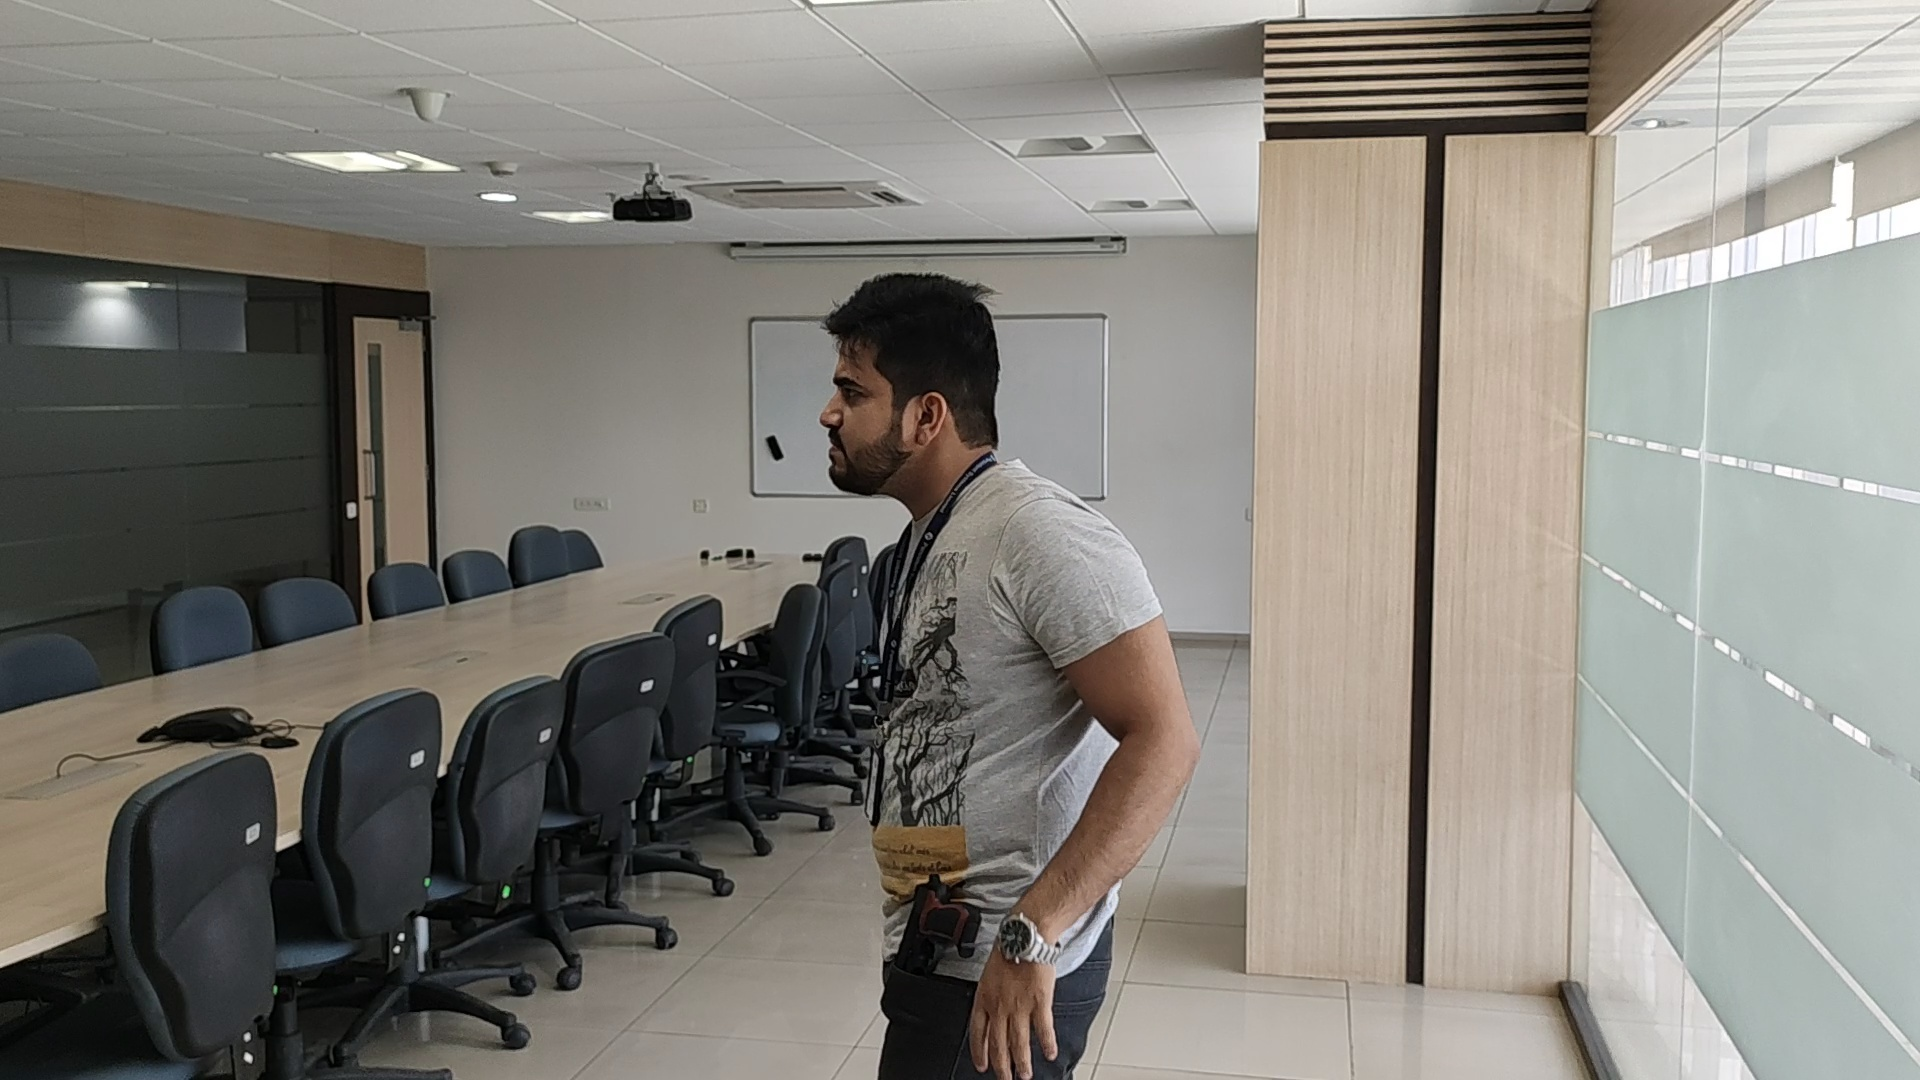gun: (895, 876, 982, 977)
